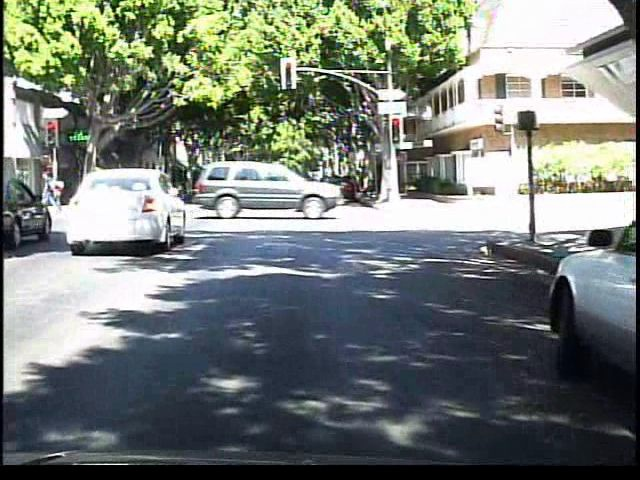person: (42, 165, 72, 212)
